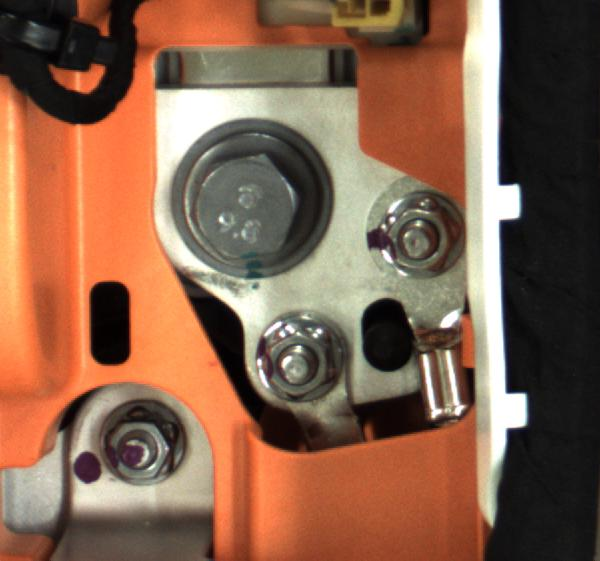nut_b: (166, 116, 334, 279)
screw_s: (344, 198, 466, 280), (92, 409, 193, 495), (238, 317, 343, 398)
